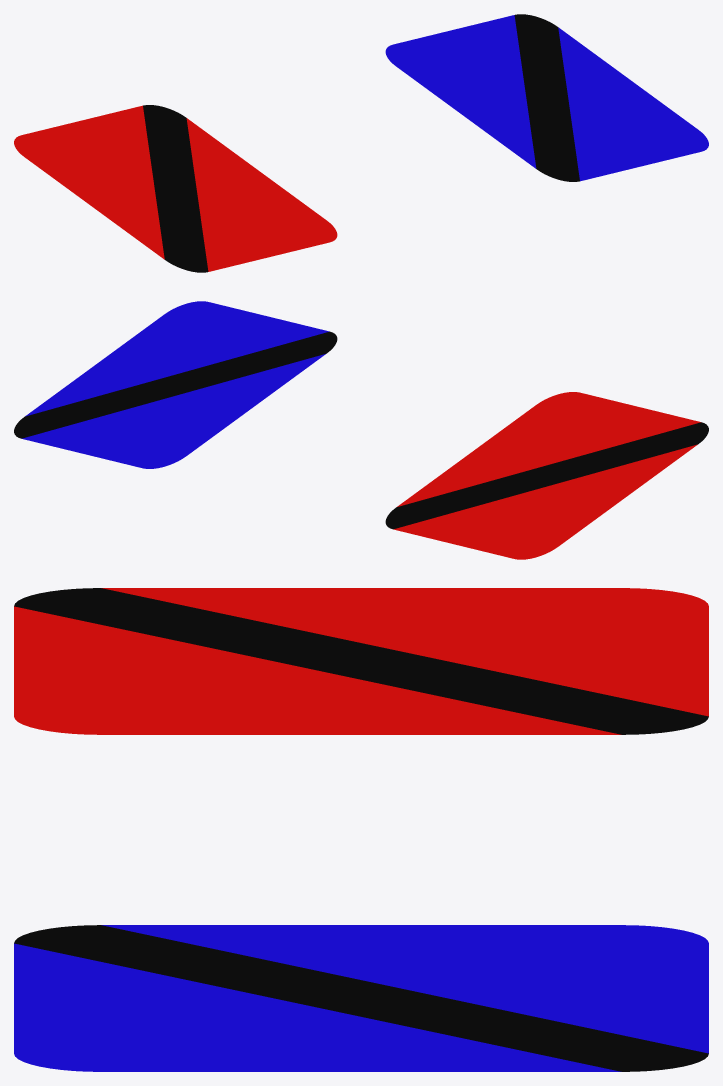
File: CardKey.fbx
3 views of the same model, one above another, from view 1: azimuth 30°, elevation 25°; view 2: azimuth 150°, elevation 25°; view 3: azimuth 270°, elevation 25° (orthographic). The views are drawn at different scales.
Parts seen in each view (by area): view 1: Card1, Card2; view 2: Card1, Card2; view 3: Card1, Card2.
Part boxes in pixels (bbox=[...]): Card1: bbox=[14, 105, 337, 272]; Card2: bbox=[385, 14, 708, 181]; Card1: bbox=[385, 392, 708, 559]; Card2: bbox=[14, 301, 337, 468]; Card1: bbox=[14, 588, 708, 734]; Card2: bbox=[14, 925, 708, 1071].
Size of the model in its own units: 82.38 by 8.15e-06 by 50.
